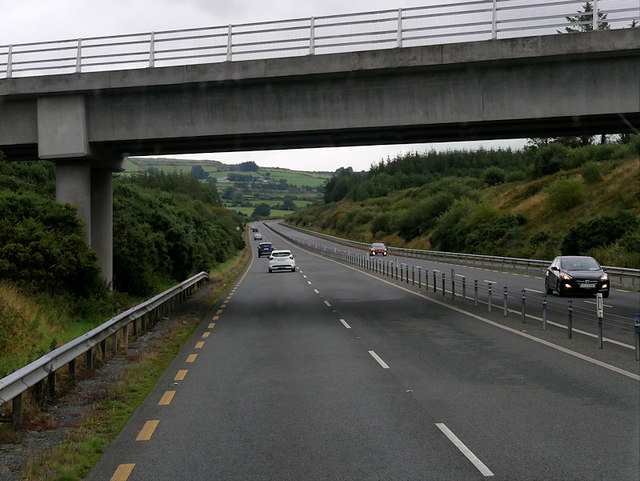bridge: (1, 1, 640, 158)
